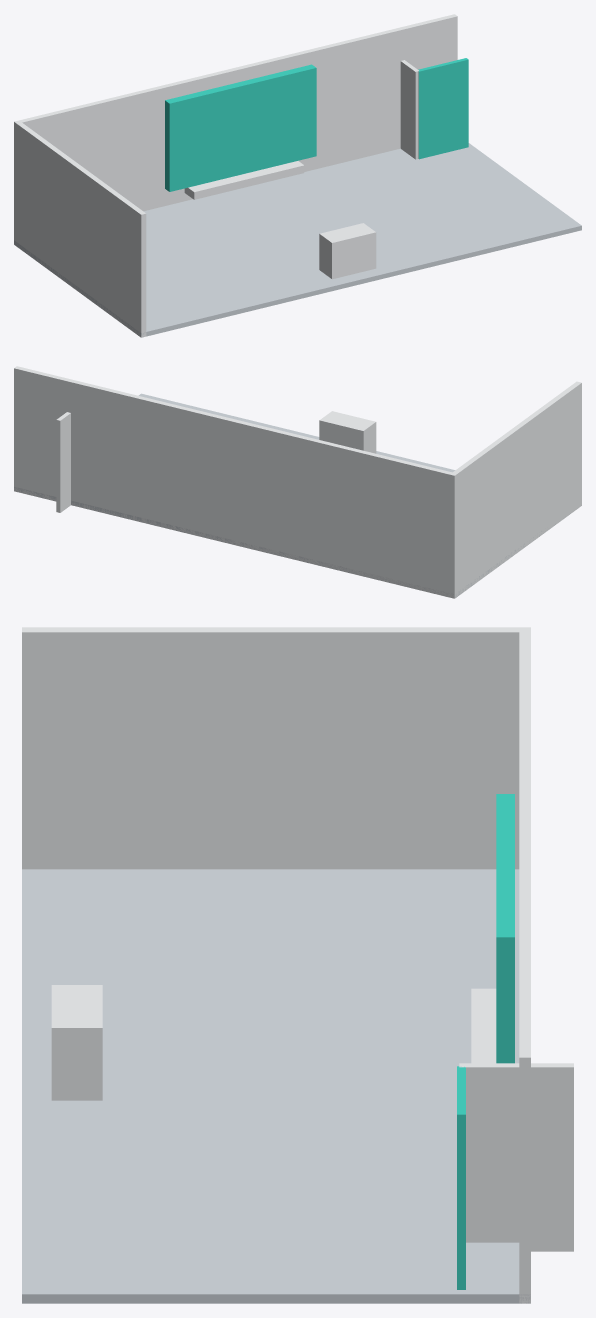
3 views of the same model, one above another, from view 1: azimuth 30°, elevation 25°; view 2: azimuth 150°, elevation 25°; view 3: azimuth 270°, elevation 25° (orthographic). The views are drawn at different scales.
Parts seen in each view (by area): view 1: Exhibition Booth Concept; view 2: Exhibition Booth Concept; view 3: Exhibition Booth Concept.
Part boxes in pixels (bbox=[...]): Exhibition Booth Concept: bbox=[14, 14, 581, 337]; Exhibition Booth Concept: bbox=[14, 366, 581, 598]; Exhibition Booth Concept: bbox=[22, 627, 573, 1303].
Bounding box in the file's own units: 12 × 3.2 × 6.51.
